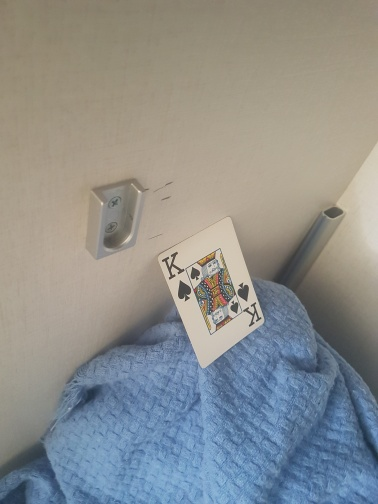king: (157, 217, 265, 369)
